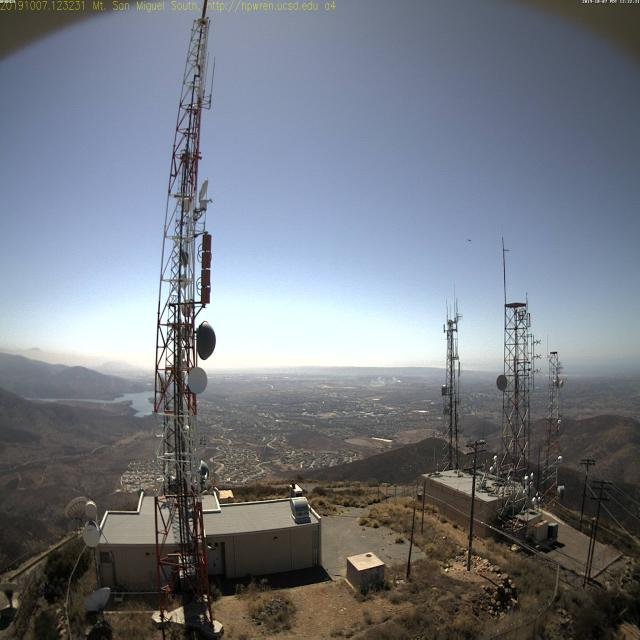smoke: (366, 371, 402, 389)
